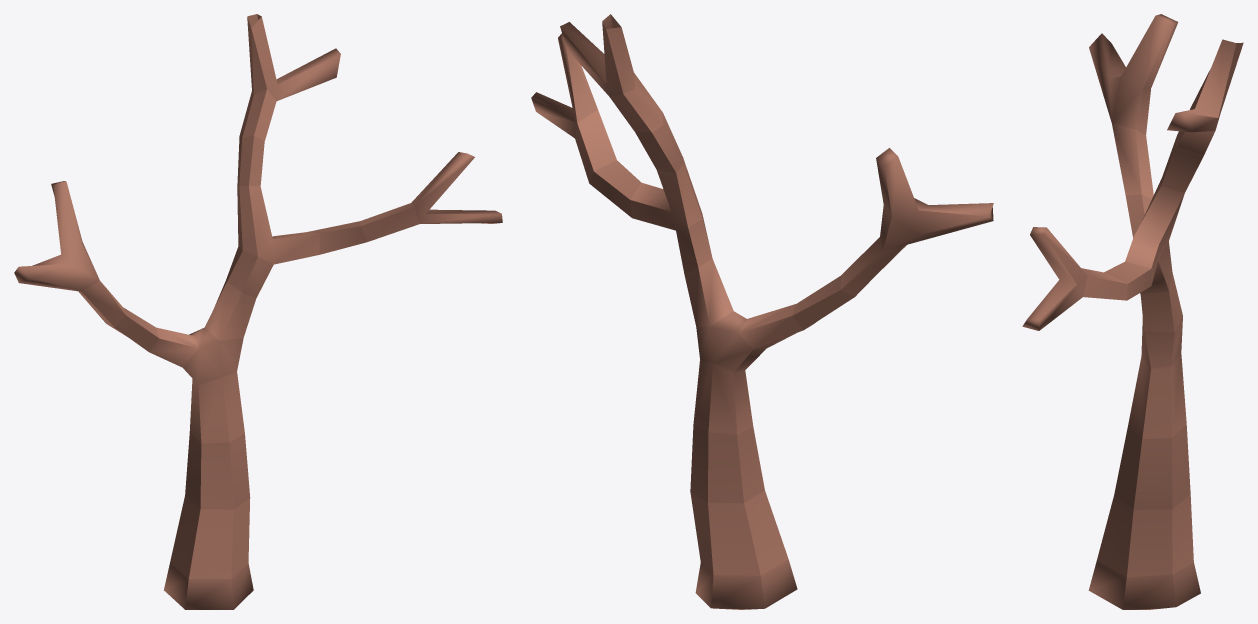
File: a big NAKED tree.fbx
The picture shows the model from 3 angles, left to right: view 1: azimuth 30°, elevation 25°; view 2: azimuth 150°, elevation 25°; view 3: azimuth 270°, elevation 25°; orthographic projection. The views are drawn at different scales.
Visible parts, largest first — view 1: treee for export; view 2: treee for export; view 3: treee for export.
Boxes of the visible parts, bbox=[...] form: treee for export: bbox=[14, 14, 502, 609]; treee for export: bbox=[531, 14, 993, 609]; treee for export: bbox=[1022, 14, 1243, 609].
Bounding box in the file's own units: 755 × 875 × 284.
